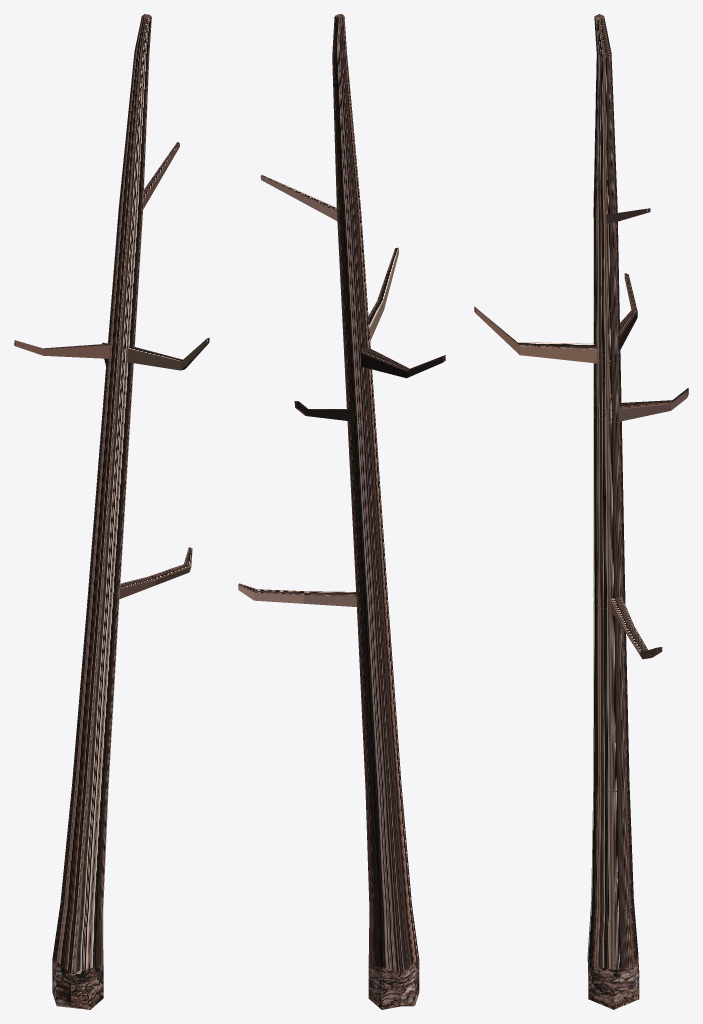
File: tree-dead.glb
3 renders of one model, left to right at view 1: azimuth 30°, elevation 25°; view 2: azimuth 150°, elevation 25°; view 3: azimuth 270°, elevation 25°, orthographic. The views are drawn at different scales.
Parts seen in each view (by area): view 1: Cube; view 2: Cube; view 3: Cube.
Boxes of the visible parts, x1,y1,x2,y2 form: Cube: (14, 14, 209, 1009); Cube: (238, 14, 445, 1009); Cube: (474, 14, 688, 1009).
Bounding box in the file's own units: 10.79 × 52.11 × 9.98.
Materials: 1 (1 with a texture image).
